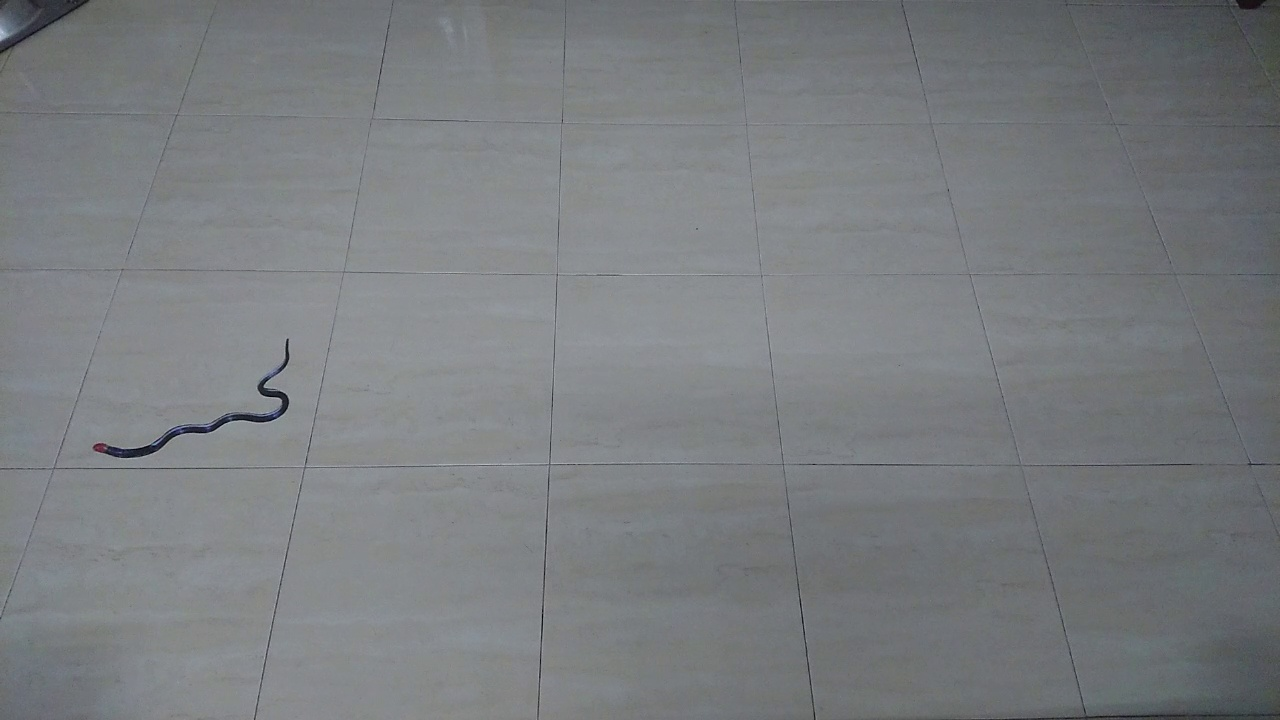snake: (78, 329, 311, 468)
